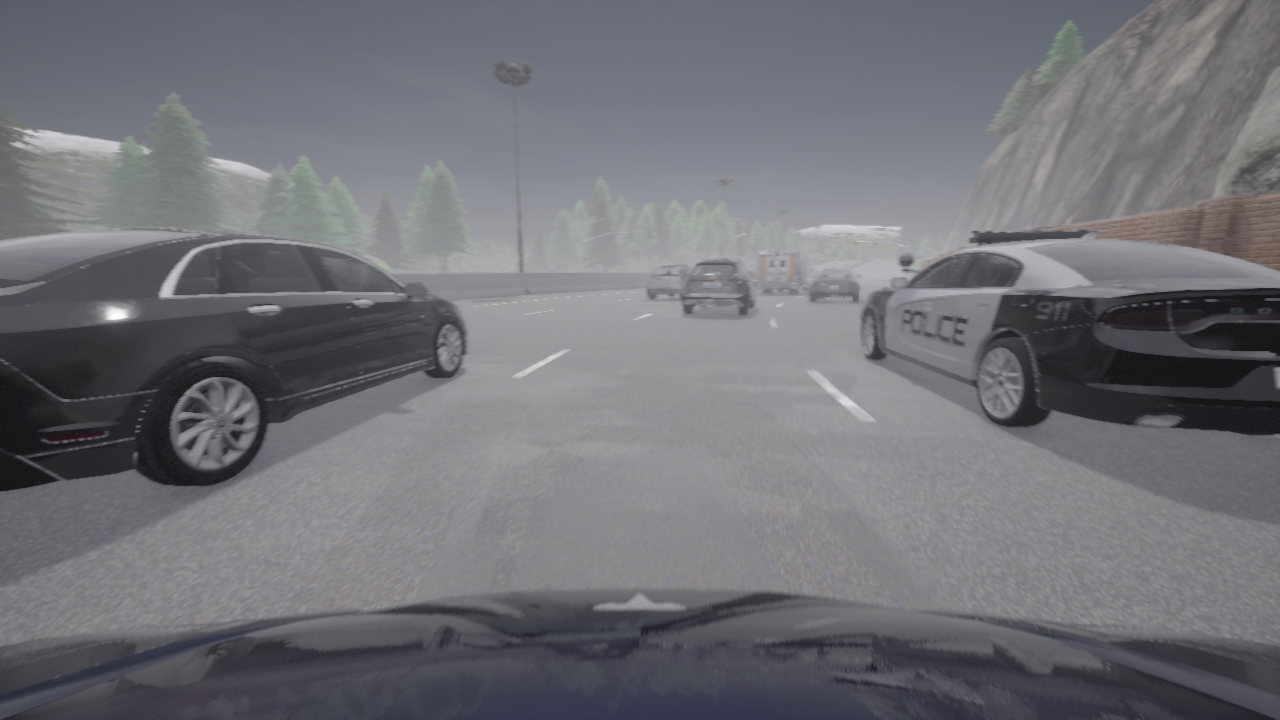cyclist: (0, 588, 1279, 719), (0, 227, 467, 491), (861, 228, 1279, 435), (681, 258, 755, 315), (756, 250, 813, 293), (810, 269, 860, 302), (647, 264, 692, 299), (748, 268, 756, 285), (691, 267, 693, 268)
